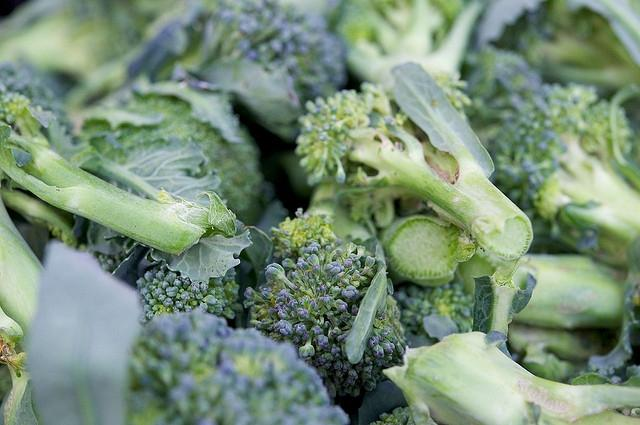broccoli: (294, 60, 534, 260), (0, 90, 237, 256), (81, 80, 278, 227), (244, 239, 407, 402), (126, 304, 350, 422), (490, 82, 635, 248), (402, 330, 640, 425), (184, 1, 346, 114), (488, 0, 640, 104), (452, 246, 627, 330), (326, 0, 487, 89), (378, 201, 479, 287), (458, 47, 544, 147), (0, 196, 46, 352), (508, 323, 618, 382), (136, 267, 243, 325)
